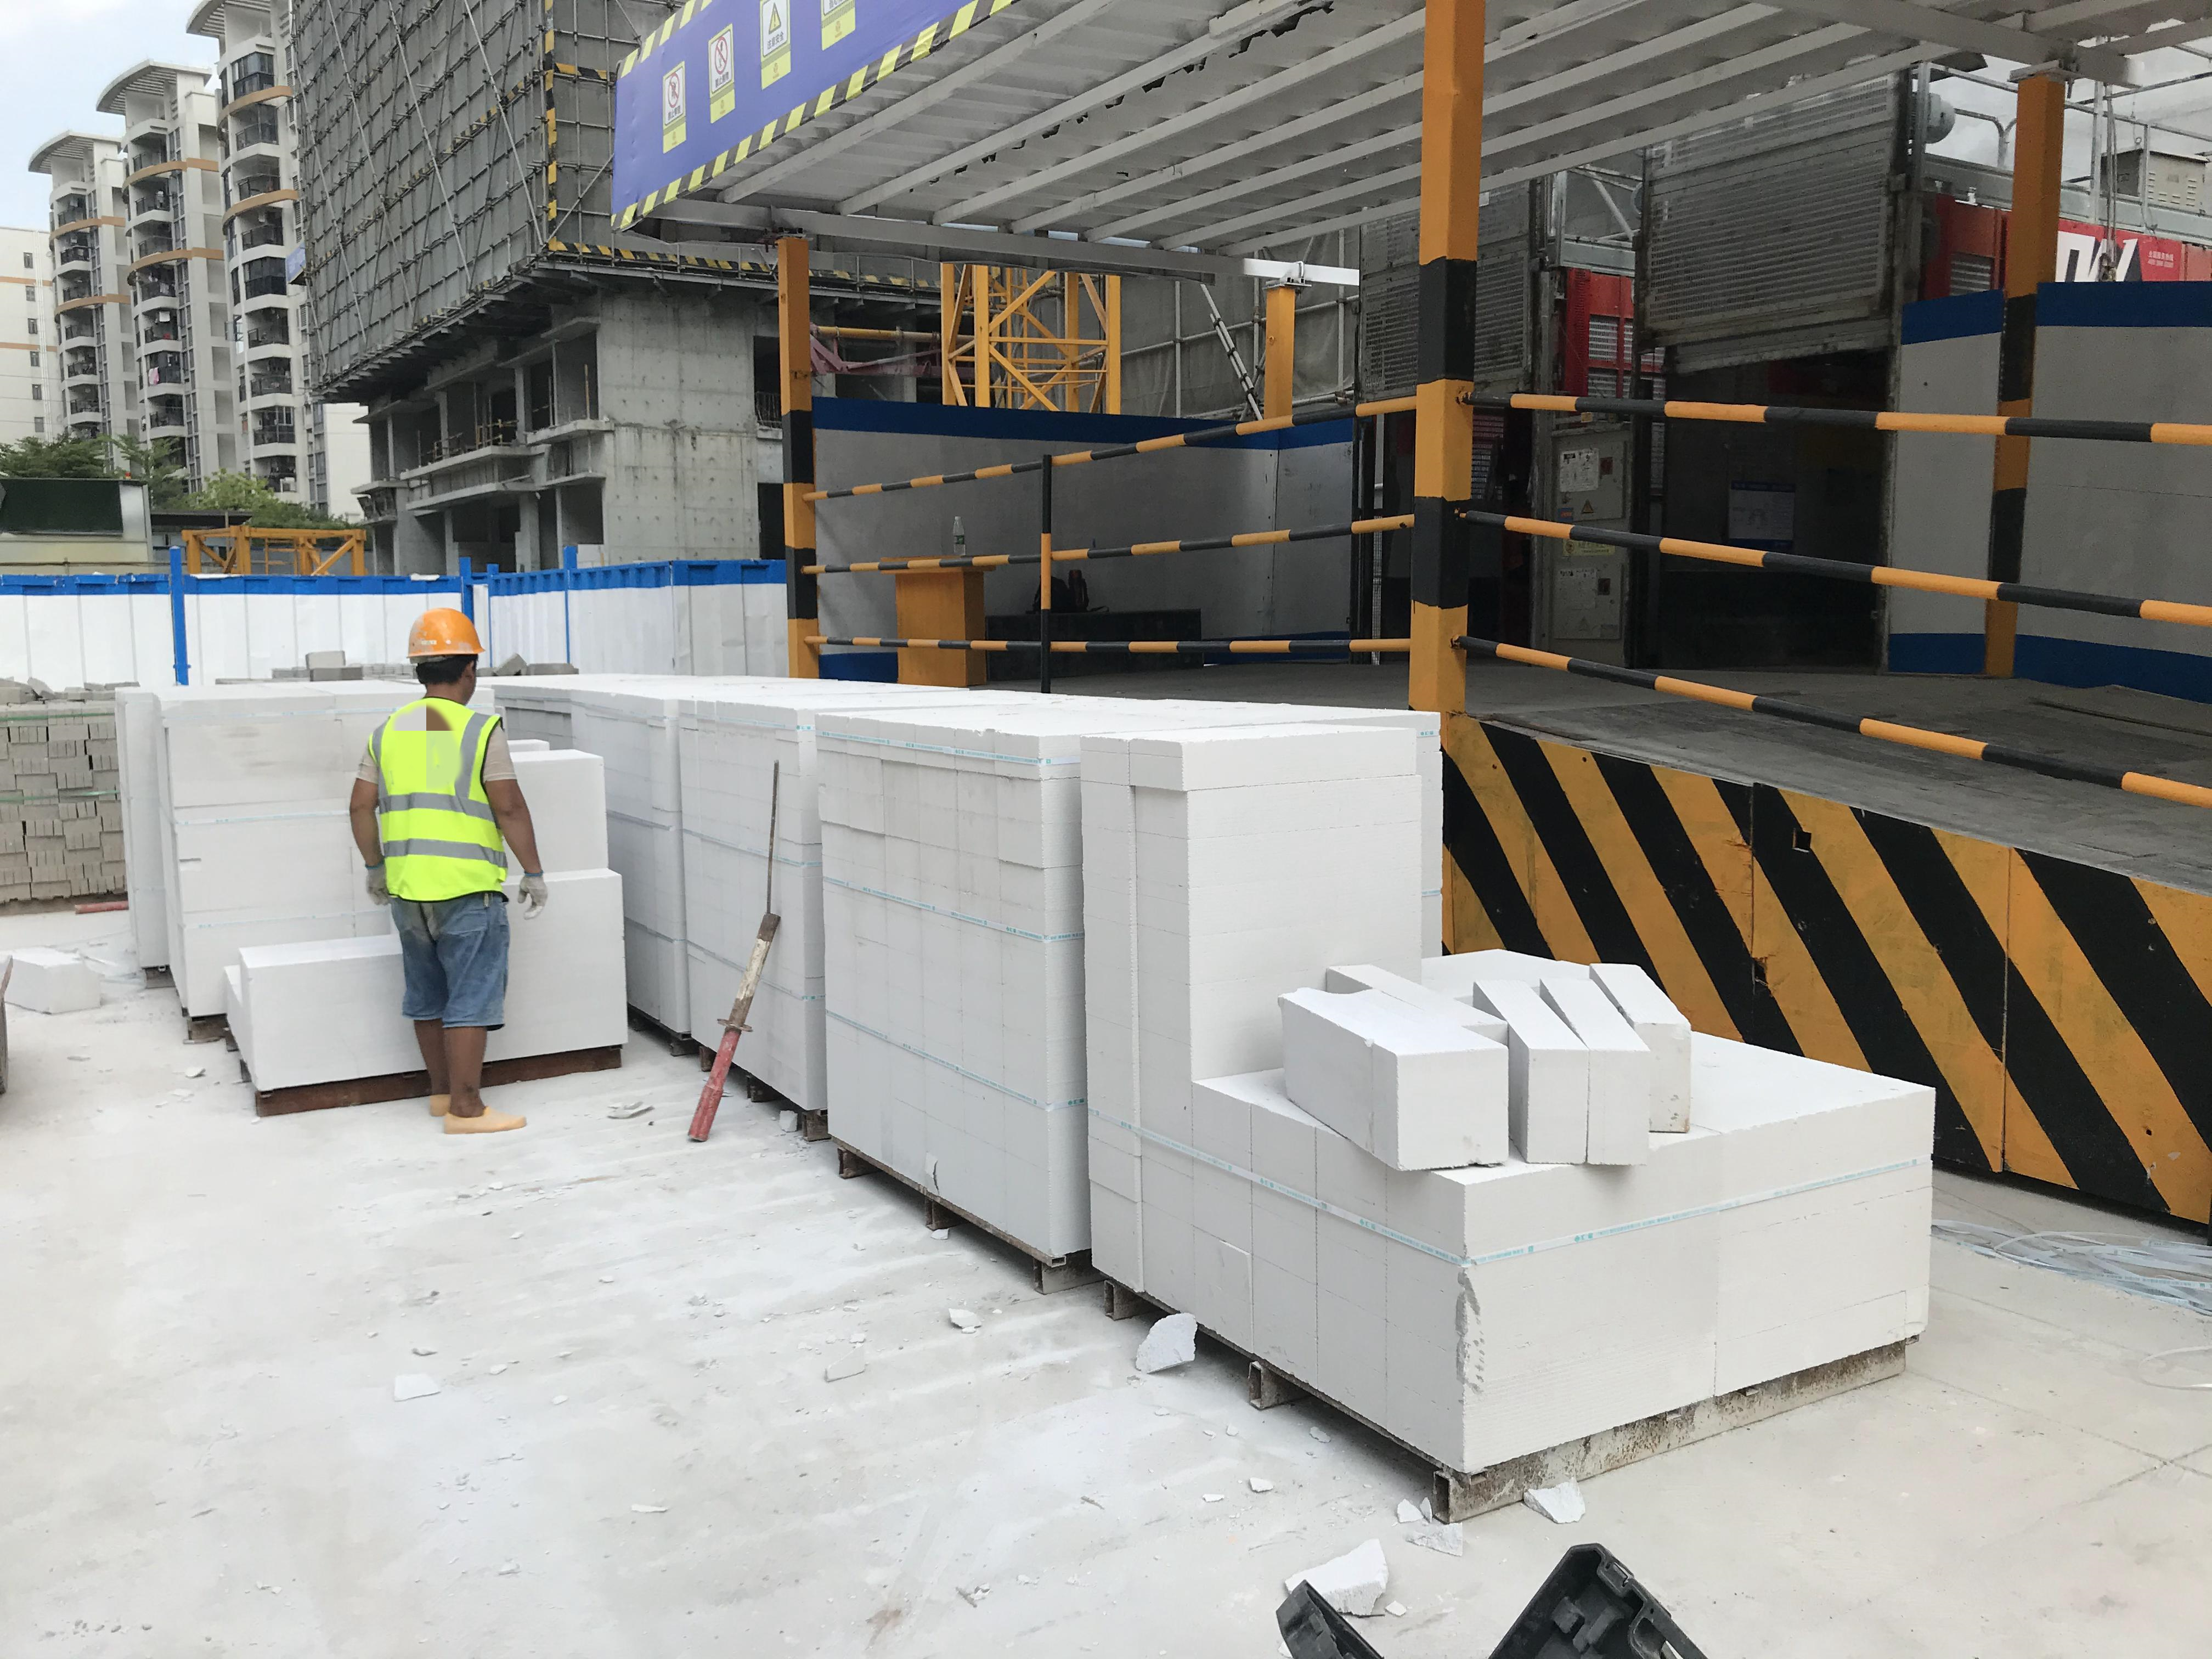brick: (522, 673, 1941, 1486), (113, 684, 633, 1103), (1, 682, 145, 911)
helmet: (407, 608, 485, 664)
person: (346, 602, 556, 1139)
vest: (374, 696, 505, 904)
